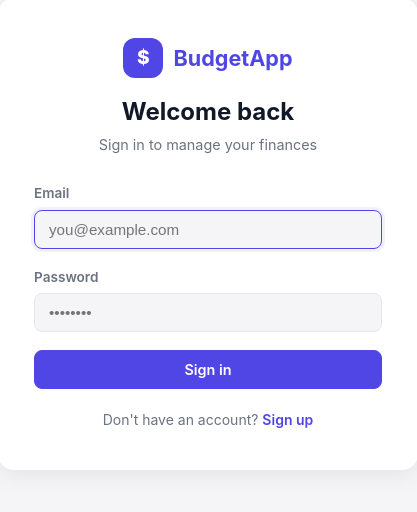
Test: LoginPage › displays error message on failed login
The image size is (417, 512).
Type "bad@example.com" into the field labelled "Email".
click(208, 229); type("bad@example.com")  # box [34,210,382,249]
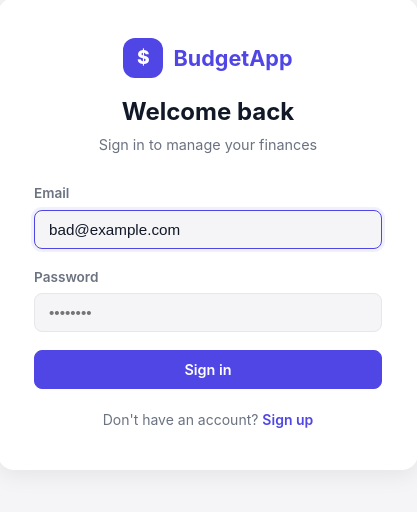
Type "wrong" into the password field labelled "Password".
click(208, 313); type("wrong")  # box [34,293,382,332]
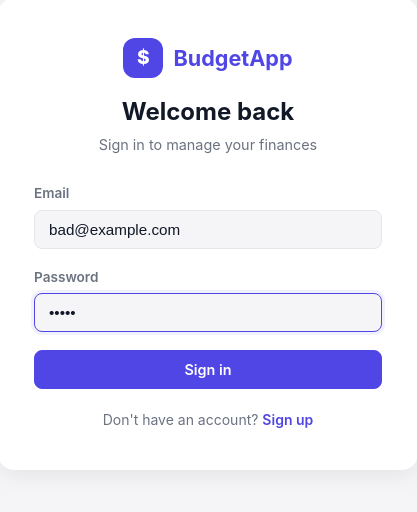
Click the button "Sign in".
click(208, 370)  # box [34,350,382,389]
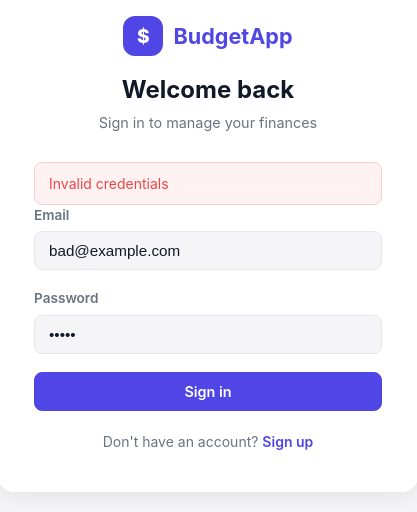
expect the text "Invalid credentials" is shown: met, box [34,162,382,205]
